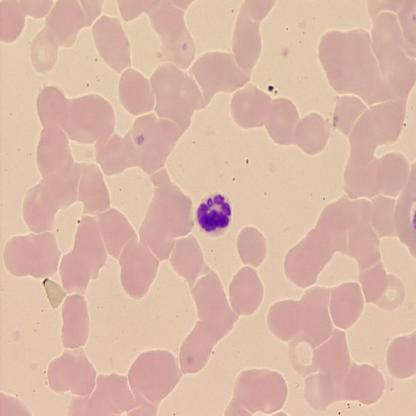Segmented neutrophil: (192, 189, 233, 239)
